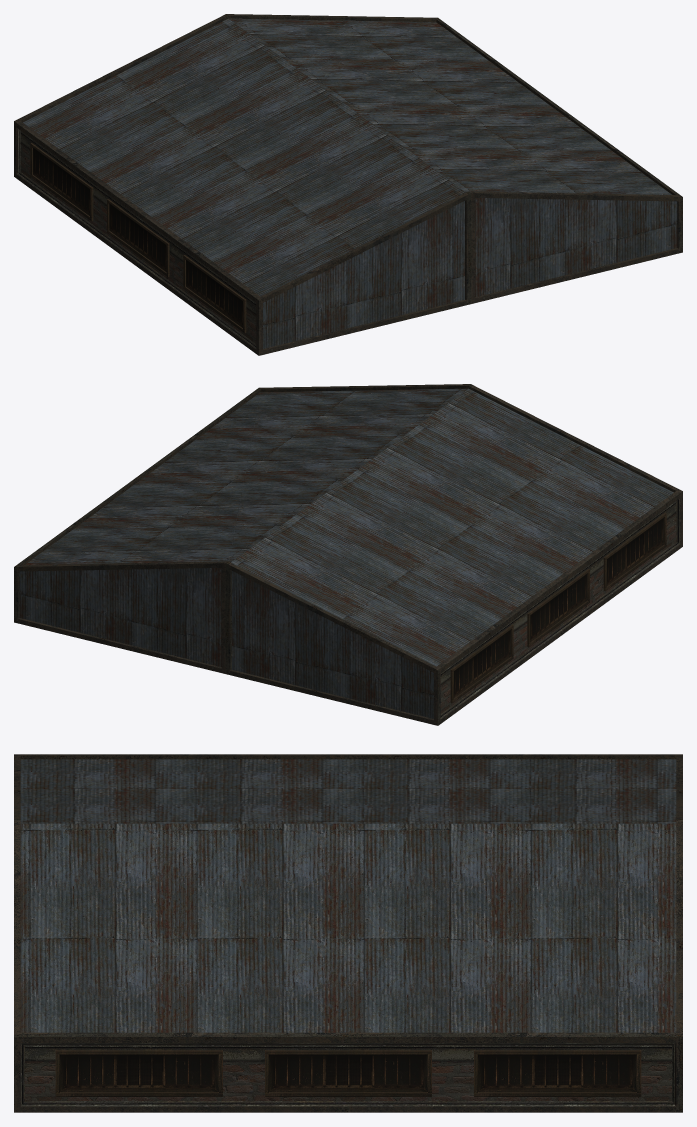
The model's file is roof_mh_4_a_2.dae.
3 renders of one model, top to bottom at view 1: azimuth 30°, elevation 25°; view 2: azimuth 150°, elevation 25°; view 3: azimuth 270°, elevation 25°, orthographic. The views are drawn at different scales.
Visible parts, largest first — view 1: roof_mh_4_a_2; view 2: roof_mh_4_a_2; view 3: roof_mh_4_a_2.
Part boxes in pixels (box(x1,y1,x2,y2)): roof_mh_4_a_2: box(14, 14, 682, 355); roof_mh_4_a_2: box(14, 384, 682, 725); roof_mh_4_a_2: box(14, 754, 682, 1112).
Bounding box in the file's own units: 8 × 8 × 2.
6 materials, 6 textured.
